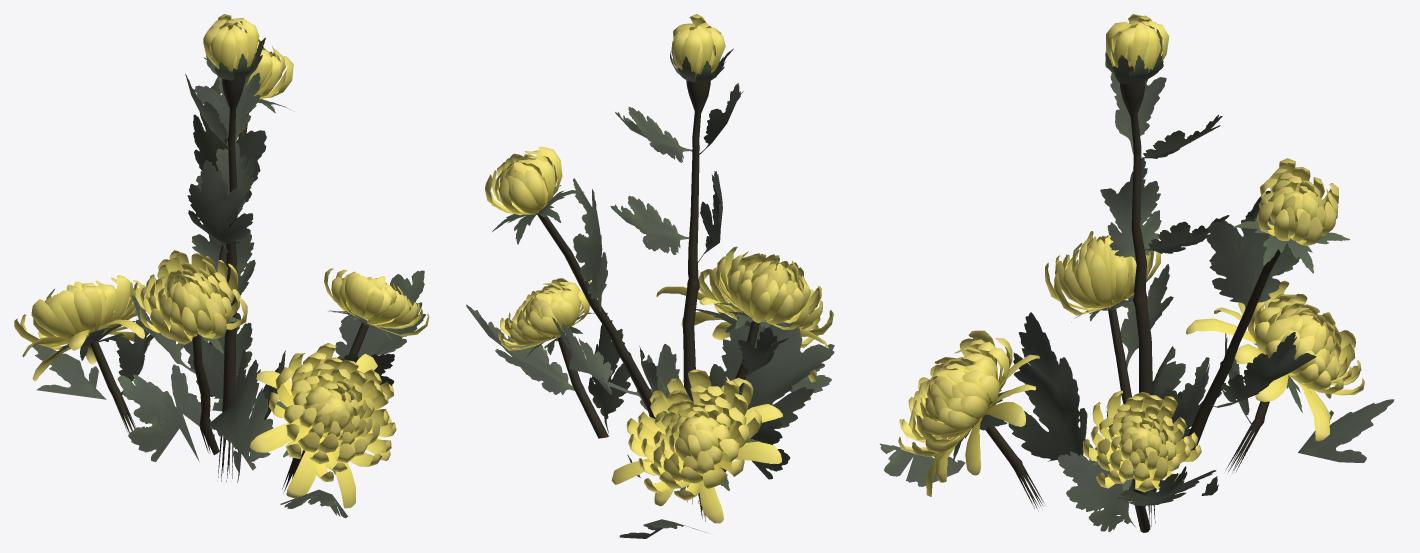
3 renders of one model, left to right at view 1: azimuth 30°, elevation 25°; view 2: azimuth 150°, elevation 25°; view 3: azimuth 270°, elevation 25°, orthographic. The views are drawn at different scales.
Visible parts, largest first — view 1: dbd44831; view 2: dbd44831; view 3: dbd44831.
Part boxes in pixels (box(x1,y1,x2,y2)): dbd44831: box(14, 14, 429, 518); dbd44831: box(466, 14, 834, 538); dbd44831: box(880, 14, 1394, 532).
Size of the model in its own units: 0.1853 by 0.23 by 0.2182.
Materials: 1 (1 with a texture image).
